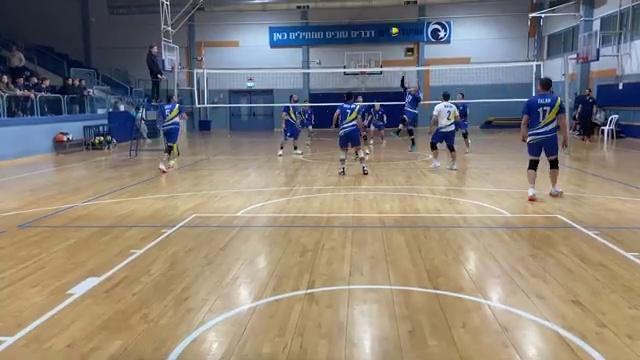ball: (389, 28, 401, 38)
